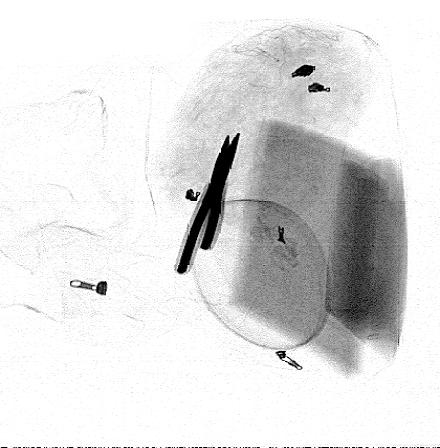Pliers: (175, 131, 238, 275)
